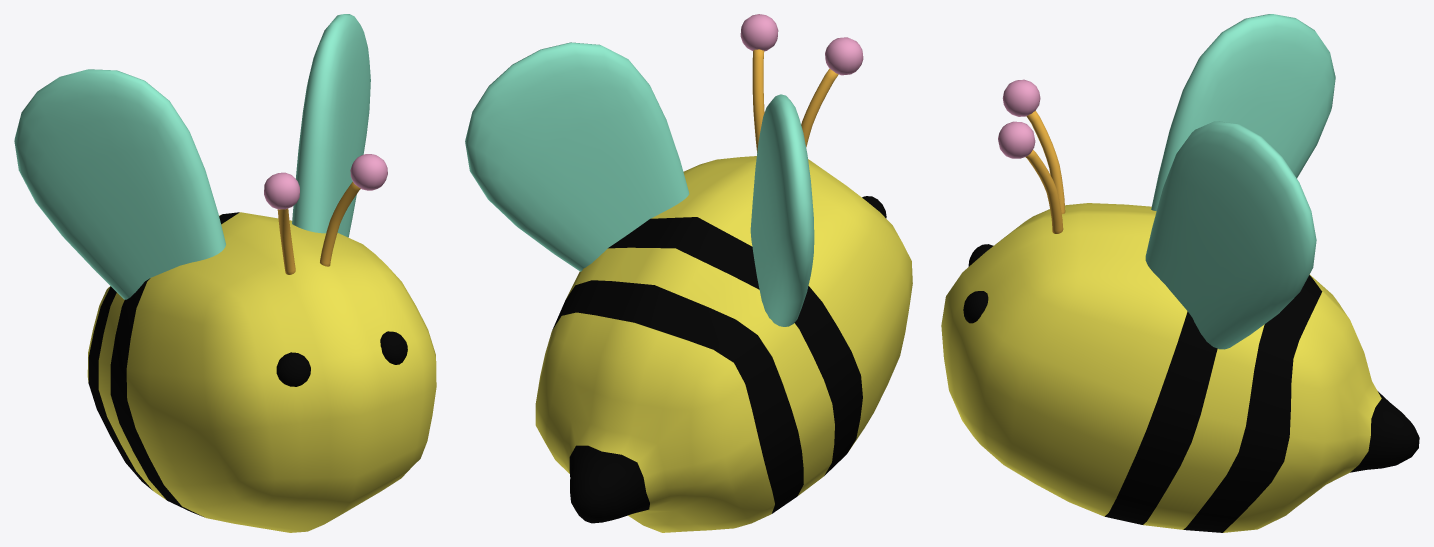
File: bee.glb
The picture shows the model from 3 angles, left to right: view 1: azimuth 30°, elevation 25°; view 2: azimuth 150°, elevation 25°; view 3: azimuth 270°, elevation 25°; orthographic projection. The views are drawn at different scales.
Parts seen in each view (by area): view 1: Body, Wings, Sensor, Eyes; view 2: Body, Wings, Sensor; view 3: Body, Wings, Sensor, Eyes.
Boxes of the visible parts, x1,y1,x2,y2 form: Body: [87, 212, 436, 532]; Wings: [14, 14, 370, 299]; Sensor: [264, 154, 387, 274]; Eyes: [276, 331, 407, 386]; Body: [535, 156, 912, 532]; Wings: [465, 42, 814, 326]; Sensor: [740, 14, 863, 152]; Body: [941, 203, 1419, 532]; Wings: [1145, 14, 1335, 349]; Sensor: [998, 79, 1065, 233]; Eyes: [963, 244, 993, 323].
Bounding box in the file's own units: 2.28 × 2.83 × 2.72.
